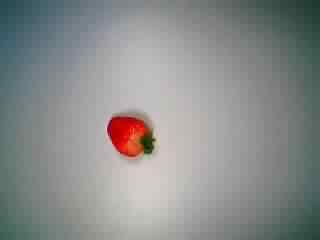strawberry: (96, 101, 162, 163)
